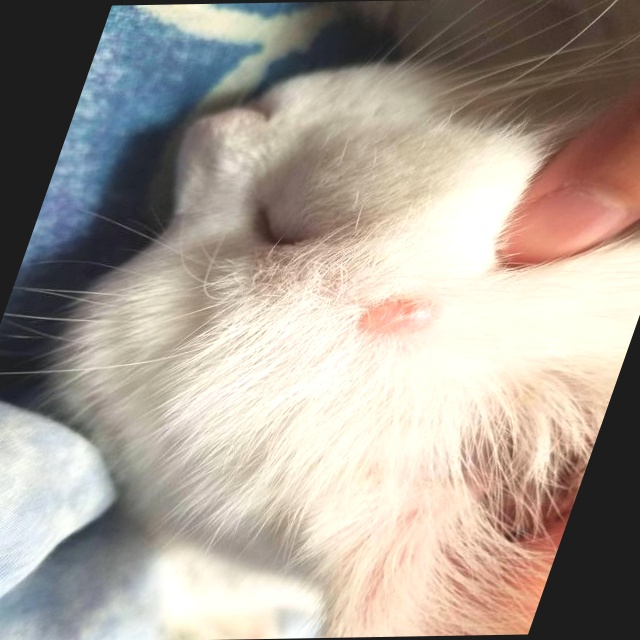lump_and_bump: (354, 297, 439, 336)
